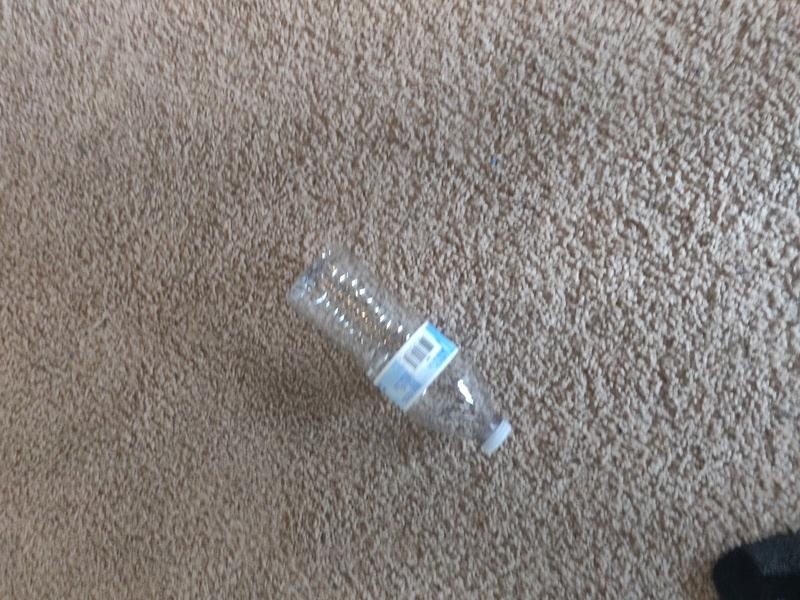bottle: (287, 245, 512, 455)
